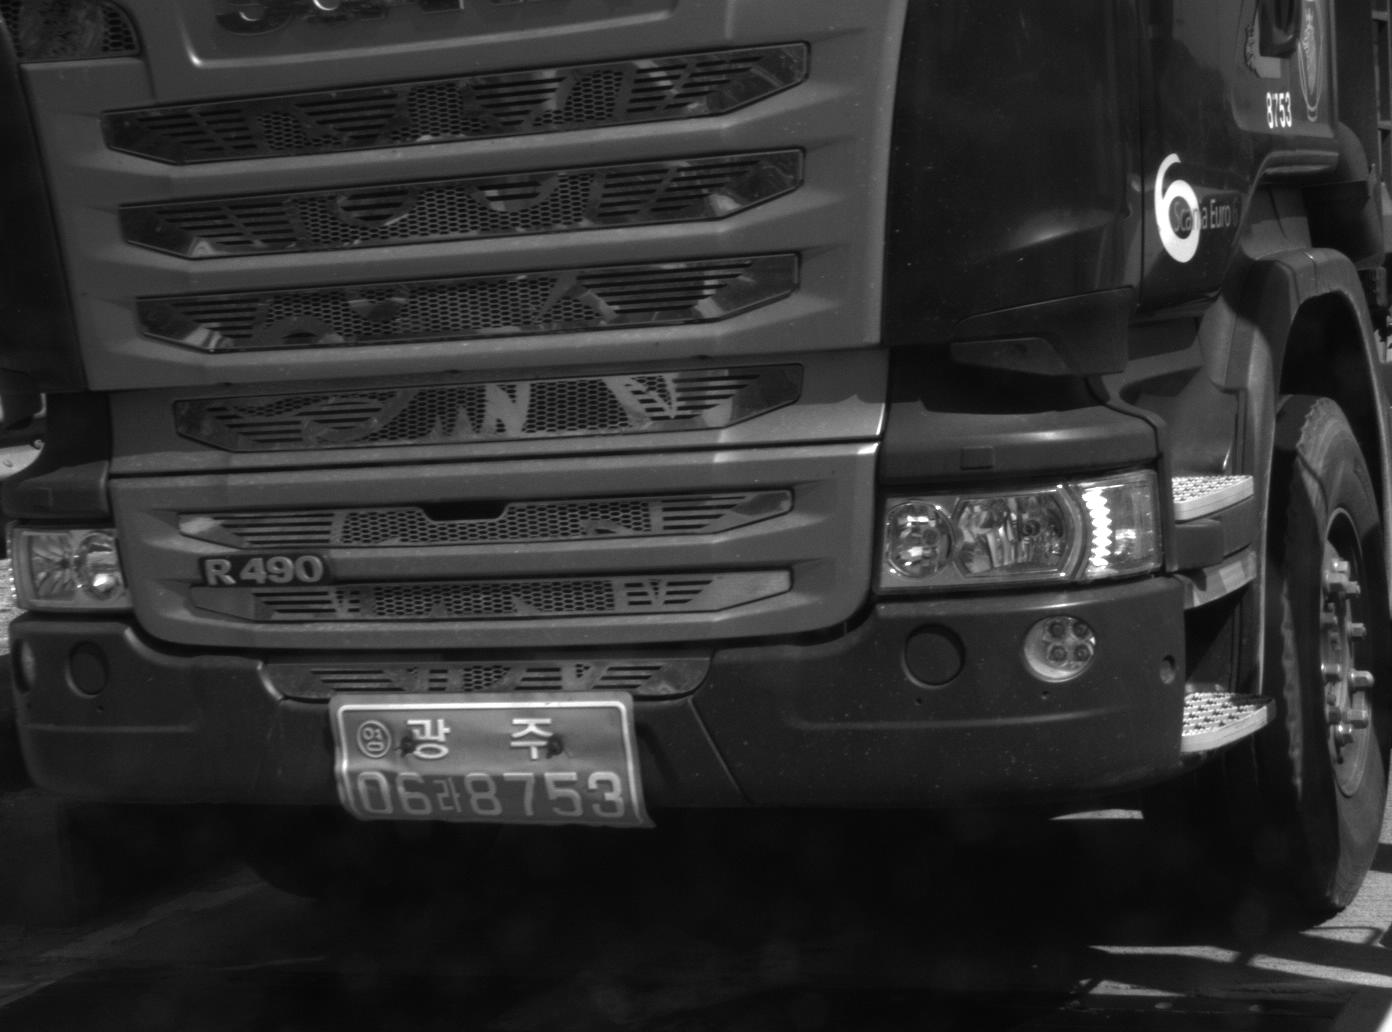car: (1, 1, 1389, 930)
plate: (323, 685, 659, 831)
